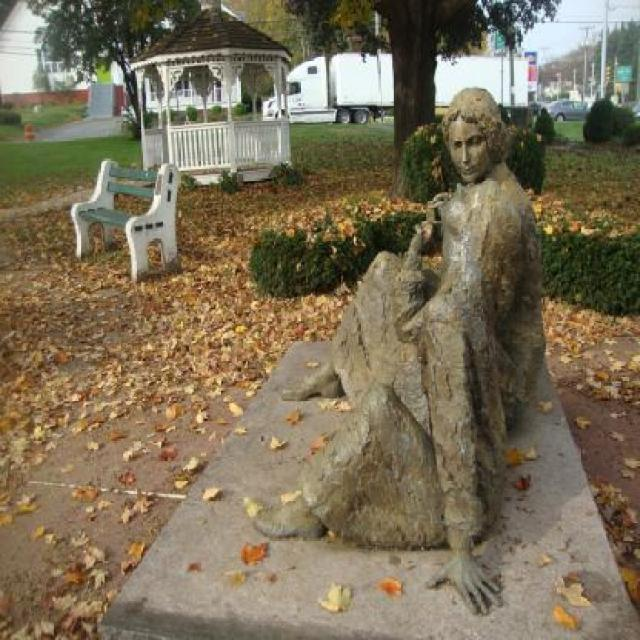Person: (255, 178, 534, 620), (279, 86, 543, 428)
